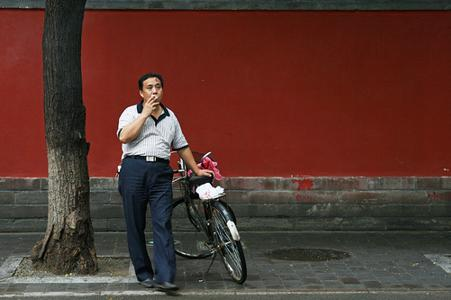person: (117, 72, 213, 294)
